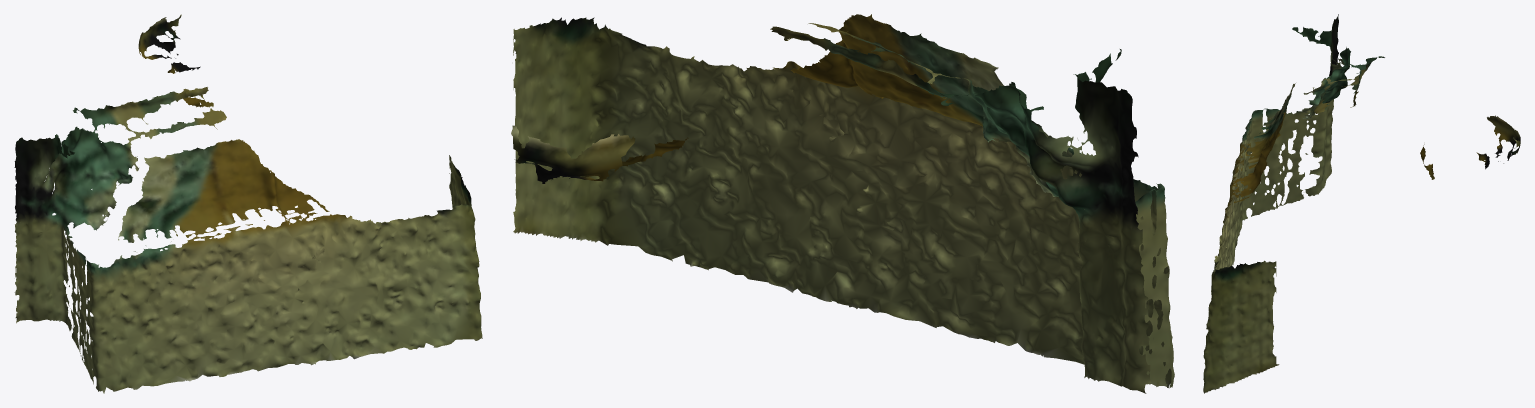
Rendered from color_model_f003_20260209_014326.obj.
The picture shows the model from 3 angles, left to right: view 1: azimuth 30°, elevation 25°; view 2: azimuth 150°, elevation 25°; view 3: azimuth 270°, elevation 25°; orthographic projection. The views are drawn at different scales.
Bounding box in the file's own units: 1.98 × 1.12 × 1.51.
